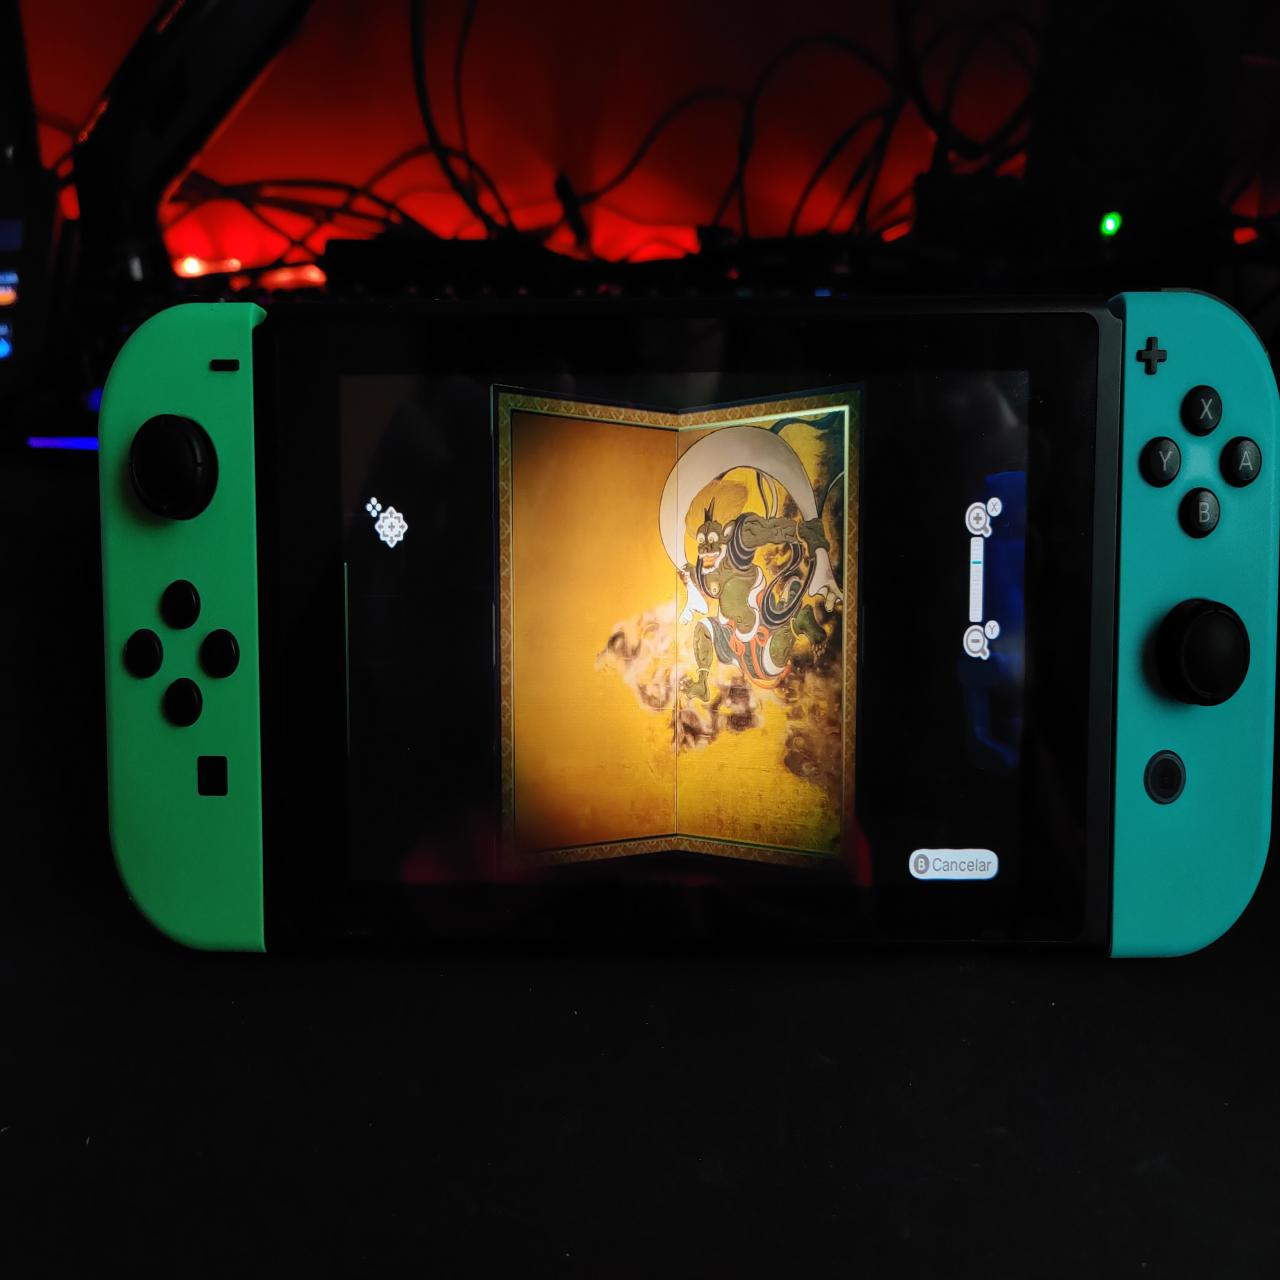Fuujin: (493, 382, 860, 876)
